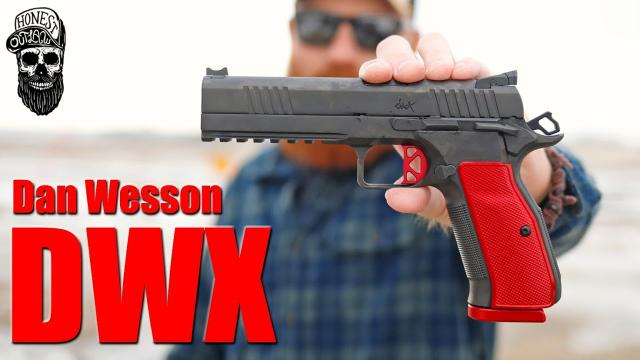handgun: (198, 60, 568, 330)
